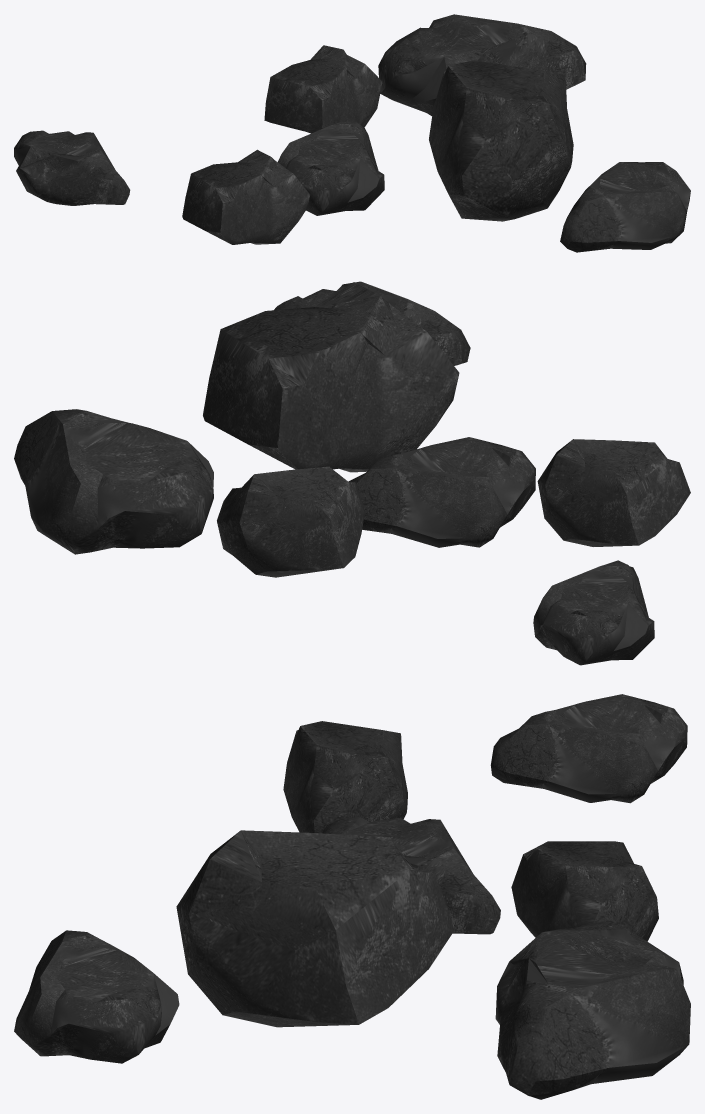
Rendered from static.glb.
3 renders of one model, top to bottom at view 1: azimuth 30°, elevation 25°; view 2: azimuth 150°, elevation 25°; view 3: azimuth 270°, elevation 25°, orthographic. The views are drawn at different scales.
Parts seen in each view (by area): view 1: Aset_nature_rock_S_wd3efb0_00_LOD4_3, Aset_nature_rock_S_wdcbcds_00_LOD3_5, Aset_nature_rock_S_wdcbcds_00_LOD3_2, Aset_nature_rock_S_wd3efb0_00_LOD4_2, Aset_nature_rock_S_wd3efb0_00_LOD4_4, Aset_nature_rock_S_wdcbcds_00_LOD3_3, Aset_nature_rock_S_wdcbcds_00_LOD3_4; view 2: Aset_nature_rock_S_wd3efb0_00_LOD4_3, Aset_nature_rock_S_wdcbcds_00_LOD3_5, Aset_nature_rock_S_wdcbcds_00_LOD3_3, Aset_nature_rock_S_wd3efb0_00_LOD4_4, Aset_nature_rock_S_wd3efb0_00_LOD4_2, Aset_nature_rock_S_wdcbcds_00_LOD3_4, Aset_nature_rock_S_wdcbcds_00_LOD3_2; view 3: Aset_nature_rock_S_wd3efb0_00_LOD4_3, Aset_nature_rock_S_wdcbcds_00_LOD3_5, Aset_nature_rock_S_wdcbcds_00_LOD3_4, Aset_nature_rock_S_wdcbcds_00_LOD3_2, Aset_nature_rock_S_wd3efb0_00_LOD4_2, Aset_nature_rock_S_wd3efb0_00_LOD4_4, Aset_nature_rock_S_wdcbcds_00_LOD3_3.
Boxes of the visible parts, box(x1,y1,x2,y2) form: Aset_nature_rock_S_wd3efb0_00_LOD4_3: box(429, 60, 573, 221); Aset_nature_rock_S_wdcbcds_00_LOD3_5: box(378, 14, 586, 115); Aset_nature_rock_S_wdcbcds_00_LOD3_2: box(560, 162, 690, 252); Aset_nature_rock_S_wd3efb0_00_LOD4_2: box(182, 149, 309, 244); Aset_nature_rock_S_wd3efb0_00_LOD4_4: box(264, 45, 382, 133); Aset_nature_rock_S_wdcbcds_00_LOD3_3: box(278, 119, 384, 215); Aset_nature_rock_S_wdcbcds_00_LOD3_4: box(14, 130, 130, 205); Aset_nature_rock_S_wd3efb0_00_LOD4_3: box(203, 282, 459, 472); Aset_nature_rock_S_wdcbcds_00_LOD3_5: box(14, 409, 213, 554); Aset_nature_rock_S_wdcbcds_00_LOD3_3: box(348, 437, 535, 547); Aset_nature_rock_S_wd3efb0_00_LOD4_4: box(217, 466, 364, 577); Aset_nature_rock_S_wd3efb0_00_LOD4_2: box(537, 439, 690, 546); Aset_nature_rock_S_wdcbcds_00_LOD3_4: box(533, 560, 654, 665); Aset_nature_rock_S_wdcbcds_00_LOD3_2: box(274, 281, 470, 365); Aset_nature_rock_S_wd3efb0_00_LOD4_3: box(176, 830, 455, 1027); Aset_nature_rock_S_wdcbcds_00_LOD3_5: box(495, 920, 690, 1099); Aset_nature_rock_S_wdcbcds_00_LOD3_4: box(490, 694, 687, 803); Aset_nature_rock_S_wdcbcds_00_LOD3_2: box(14, 930, 179, 1063); Aset_nature_rock_S_wd3efb0_00_LOD4_2: box(283, 721, 407, 833); Aset_nature_rock_S_wd3efb0_00_LOD4_4: box(511, 841, 658, 941); Aset_nature_rock_S_wdcbcds_00_LOD3_3: box(322, 817, 500, 934).
Size of what is drawn, in the model's own units: 2.22 by 0.5343 by 1.73.
Materials: 2 (2 with a texture image).
